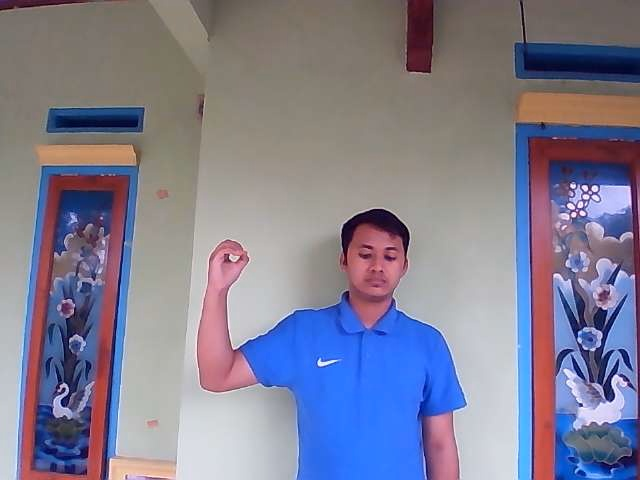O: (206, 238, 249, 285)
